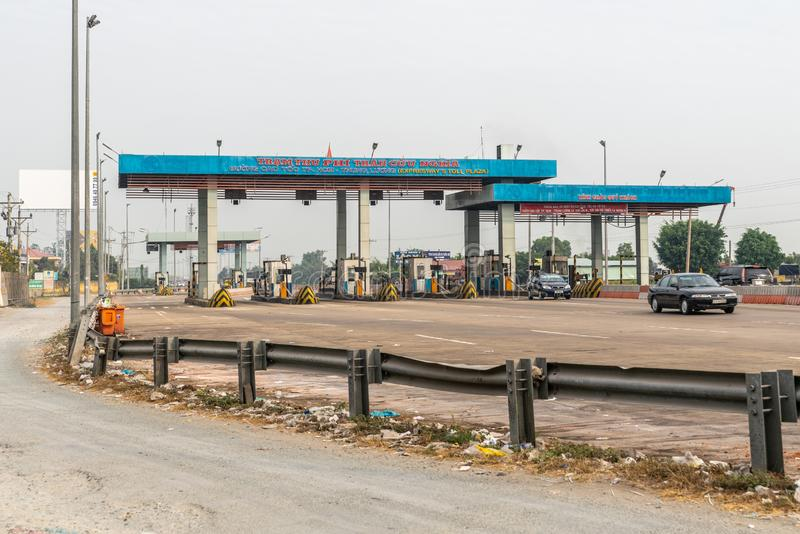toll plaza: (147, 142, 647, 300)
